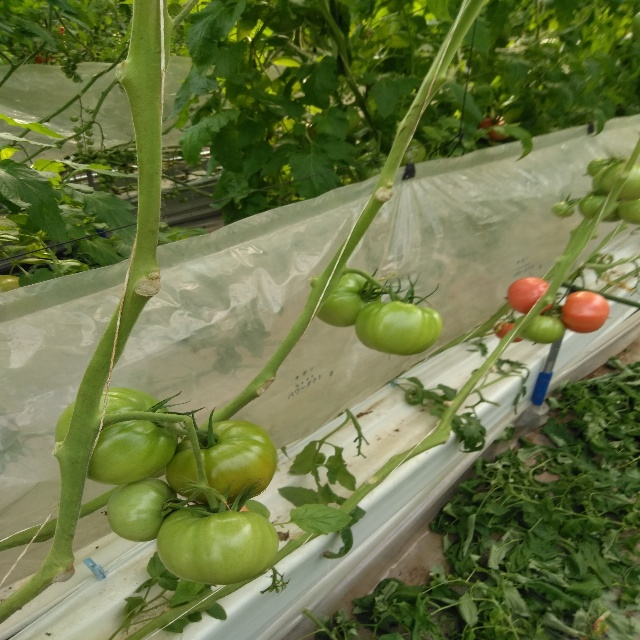b_fully_ripened: (560, 290, 610, 334), (506, 277, 554, 315)
b_green: (55, 389, 179, 485), (156, 503, 279, 585), (164, 420, 276, 504), (355, 301, 442, 356), (107, 479, 179, 542), (312, 269, 383, 327), (515, 313, 565, 344)
